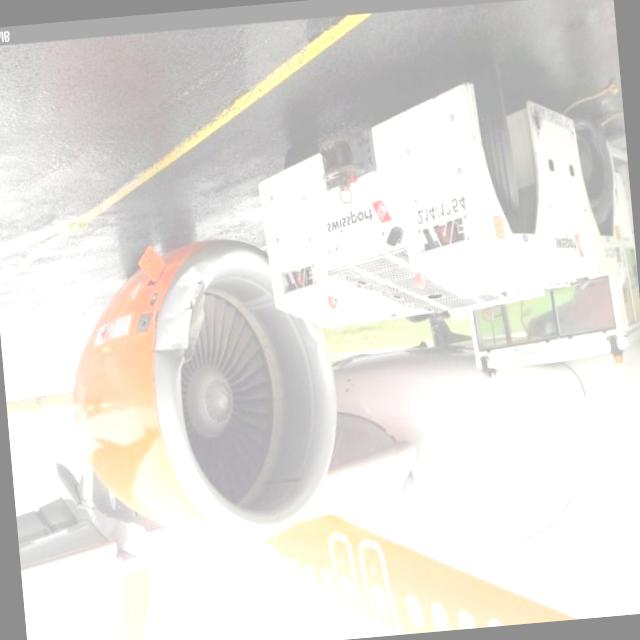crack: (177, 275, 213, 360)
dent: (152, 304, 185, 360), (298, 318, 330, 354), (176, 268, 202, 298)
